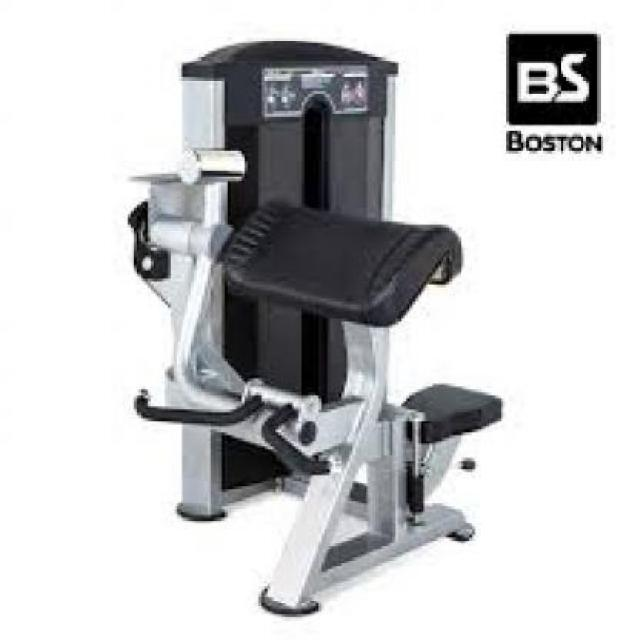arm curl machine: (122, 37, 506, 620)
